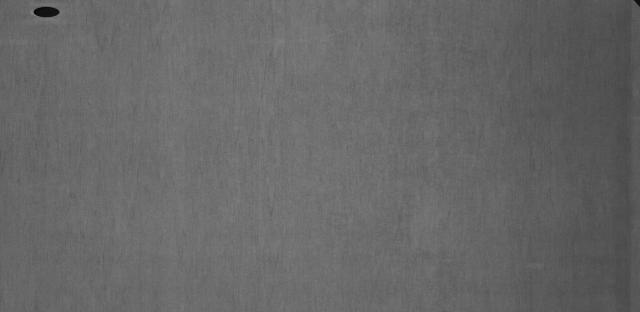punching_hole: (29, 4, 63, 20)
